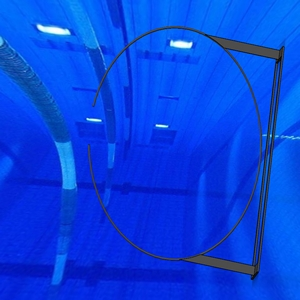circle: (87, 24, 286, 281)
